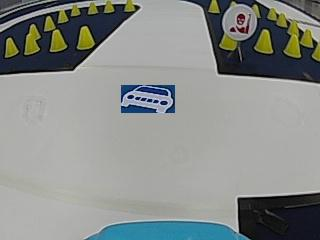evil: (221, 4, 257, 41)
